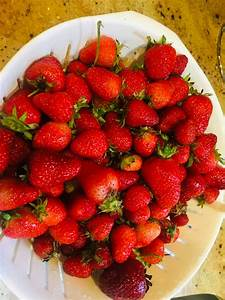Fresa: (24, 147, 85, 191), (97, 255, 152, 300), (2, 203, 51, 243), (31, 87, 80, 125), (29, 117, 75, 157), (180, 87, 216, 138), (23, 53, 67, 94), (1, 172, 43, 214), (107, 217, 141, 268), (139, 40, 180, 82), (84, 62, 124, 105), (76, 33, 121, 71), (68, 125, 112, 160), (120, 96, 163, 131), (60, 251, 97, 283), (34, 195, 69, 228), (30, 233, 61, 266), (85, 212, 117, 243), (188, 129, 219, 160)
